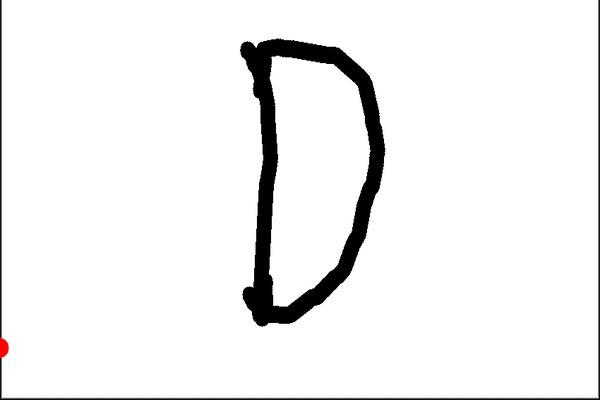D: (230, 35, 396, 329)
